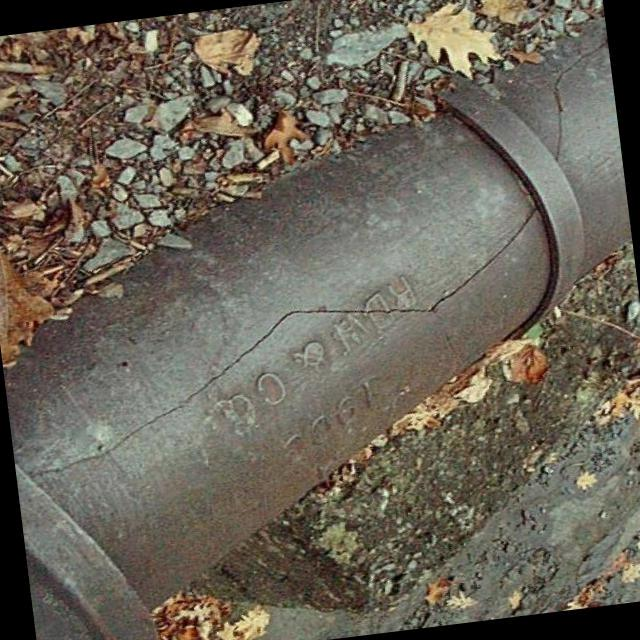defect: (23, 207, 539, 483), (549, 39, 606, 167)
